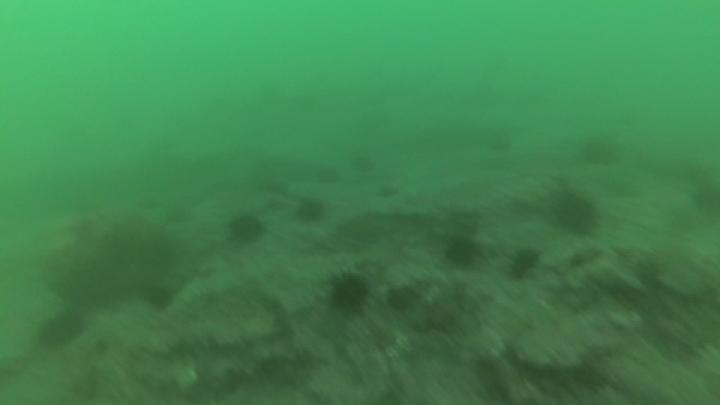echinus: (555, 197, 593, 231), (331, 276, 366, 308), (231, 217, 263, 243), (585, 142, 616, 164), (511, 249, 537, 275), (449, 239, 475, 264), (298, 200, 324, 219)
